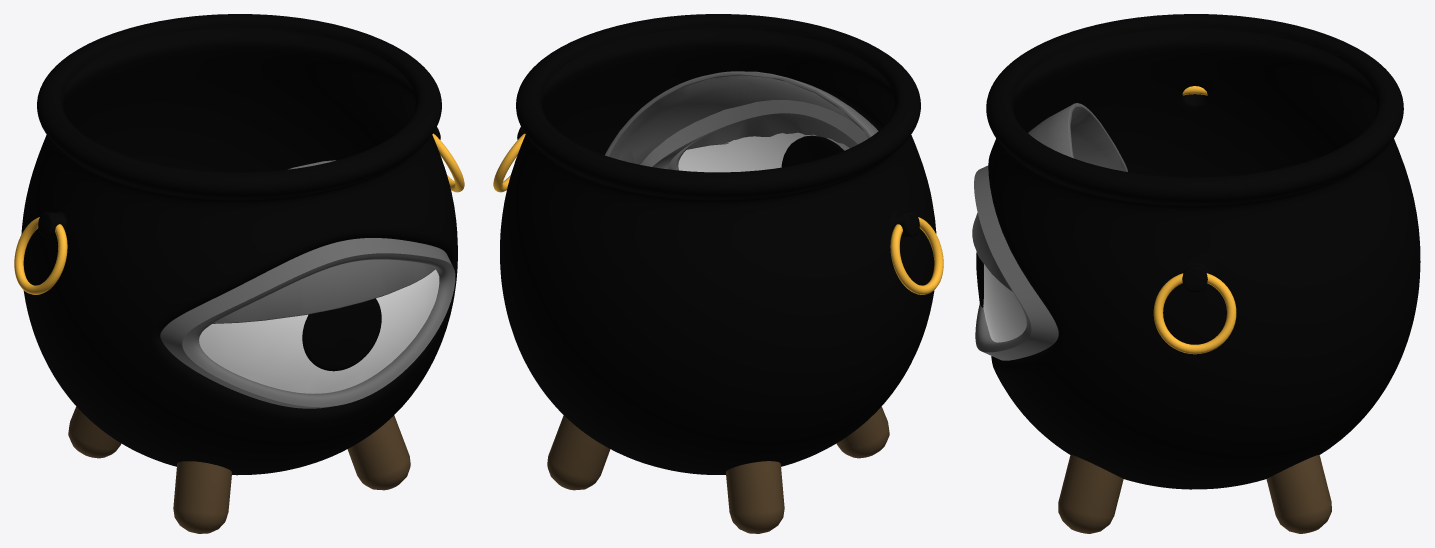
File: cauldron.glb
3 renders of one model, left to right at view 1: azimuth 30°, elevation 25°; view 2: azimuth 150°, elevation 25°; view 3: azimuth 270°, elevation 25°, orthographic. The views are drawn at different scales.
Parts seen in each view (by area): view 1: cauldron.002, eye.border.001, eye.white.003, legs.001, eye.lid.001, eye.iris.001, rings.001; view 2: cauldron.002, eye.lid.001, legs.001, eye.border.001, eye.white.003, rings.001, eye.iris.001; view 3: cauldron.002, legs.001, eye.border.001, eye.lid.001, rings.001, eye.white.003.
Part boxes in pixels (x1,y1,x2,y2): cauldron.002: (21,14,457,475); eye.border.001: (160,238,455,408); eye.white.003: (199,269,439,393); legs.001: (68,406,410,533); eye.lid.001: (212,160,435,323); eye.iris.001: (302,298,381,371); rings.001: (14,133,464,294); cauldron.002: (500,14,936,474); eye.lid.001: (605,71,878,164); legs.001: (547,406,889,533); eye.border.001: (640,100,868,170); eye.white.003: (678,132,849,172); rings.001: (493,133,943,294); eye.iris.001: (781,135,844,167); cauldron.002: (986,14,1420,489); legs.001: (1058,454,1331,533); eye.border.001: (974,165,1058,360); eye.lid.001: (972,103,1127,291); rings.001: (1153,86,1236,354); eye.white.003: (983,264,1026,342).
Bounding box in the file's own units: 2.73 × 2.28 × 2.38.
